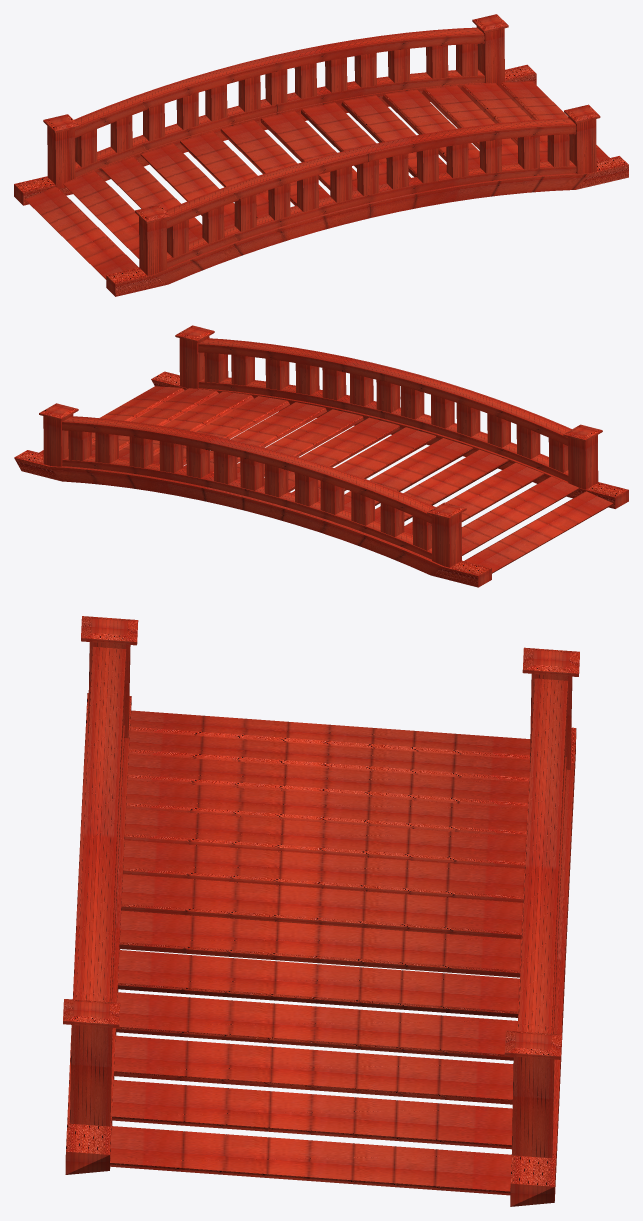
Rendered from Level1_Bridge.fbx.
The picture shows the model from 3 angles, top to bottom: view 1: azimuth 30°, elevation 25°; view 2: azimuth 150°, elevation 25°; view 3: azimuth 270°, elevation 25°; orthographic projection. The views are drawn at different scales.
Visible parts, largest first — view 1: polySurface199; view 2: polySurface199; view 3: polySurface199.
Part boxes in pixels (x1,y1,x2,y2): polySurface199: (14, 14, 628, 296); polySurface199: (14, 325, 628, 587); polySurface199: (63, 616, 579, 1206).
Size of the model in its own units: 206 by 31.45 by 92.55.
